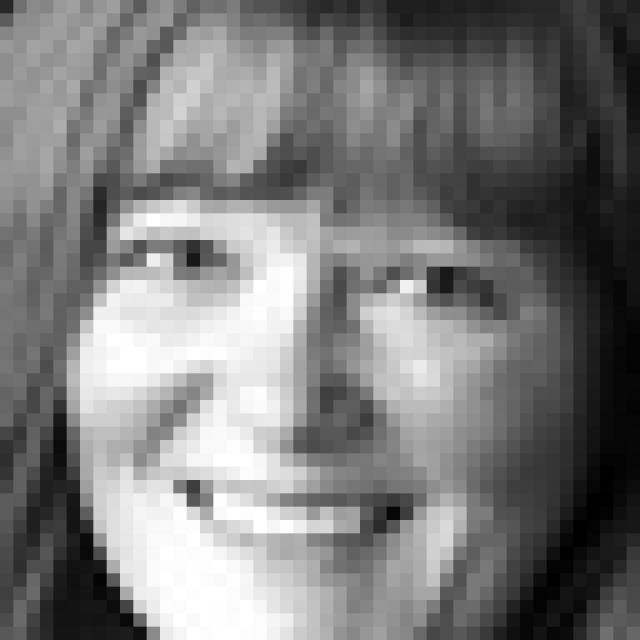happy: (106, 165, 546, 577)
